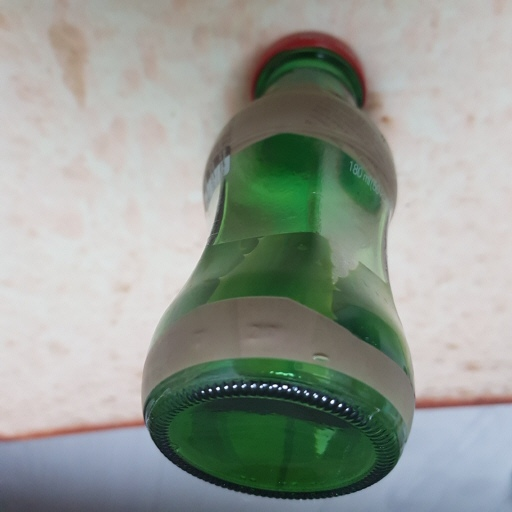Glass_4: (131, 32, 420, 497)
